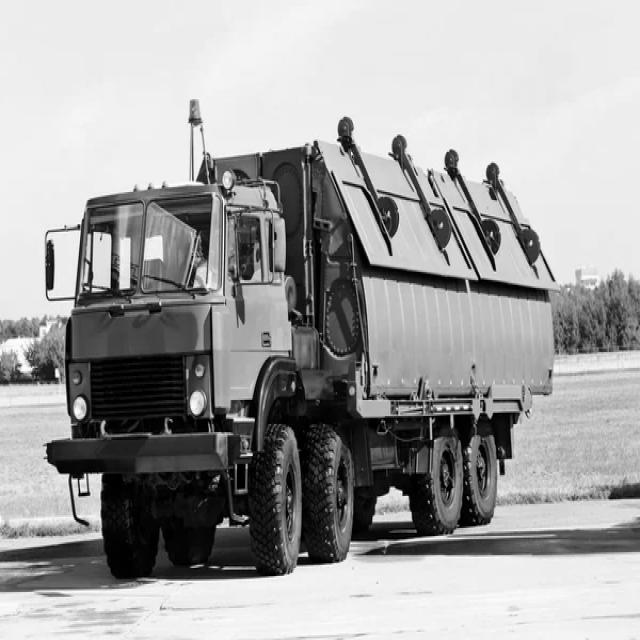Truck: (47, 117, 558, 578)
